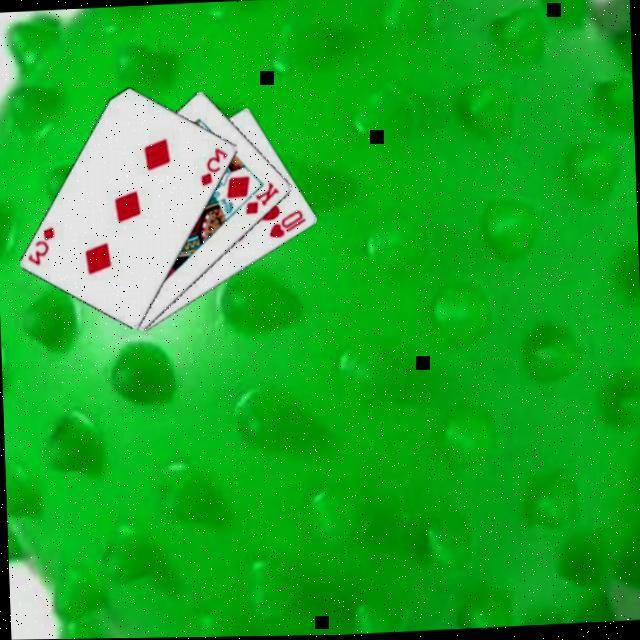10H: (263, 204, 308, 240)
3D: (22, 221, 57, 266), (196, 142, 230, 187)
KD: (240, 178, 282, 215)
